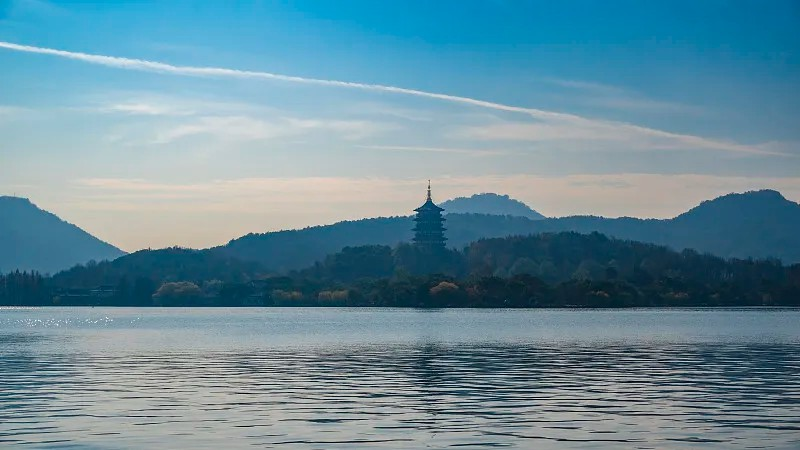Leifeng: (409, 179, 448, 249)
